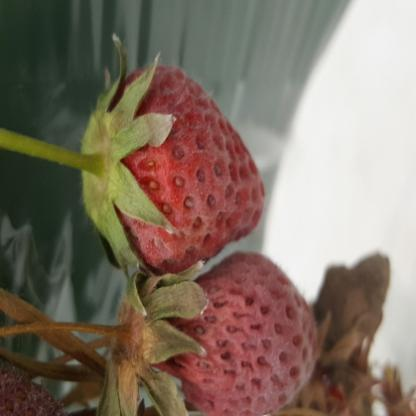Strawberry_Powdery_Mildew_Fruit: (92, 65, 266, 278), (133, 250, 318, 415)
